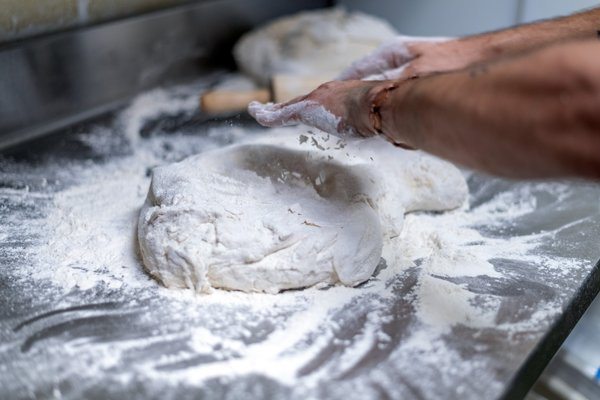pizza: (245, 9, 600, 184)
